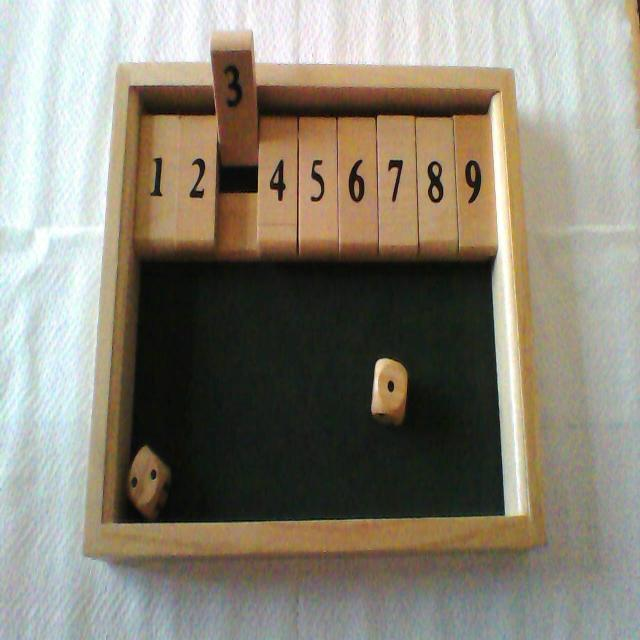1: (367, 351, 411, 432)
2: (124, 436, 174, 518)
C1: (135, 61, 179, 256)
C2: (177, 61, 212, 259)
C4: (259, 64, 298, 260)
C6: (339, 64, 377, 260)
C7: (378, 65, 417, 262)
C8: (416, 65, 456, 263)
C9: (454, 67, 498, 260)
O3: (210, 30, 256, 260)
O5: (300, 64, 337, 261)
